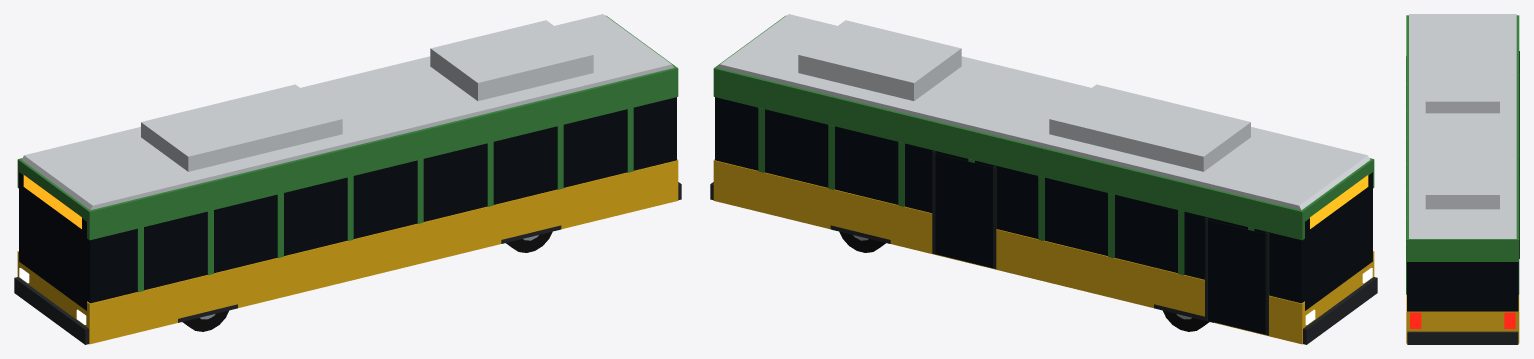
File: bus40-green.glb
3 views of the same model, side by side, from view 1: azimuth 30°, elevation 25°; view 2: azimuth 150°, elevation 25°; view 3: azimuth 270°, elevation 25° (orthographic). The views are drawn at different scales.
Visible parts, largest first — view 1: bus40; view 2: bus40; view 3: bus40.
Part boxes in pixels (x1=…): bus40: x1=14, y1=14, x2=681, y2=344; bus40: x1=710, y1=14, x2=1377, y2=344; bus40: x1=1406, y1=14, x2=1519, y2=344.
Bounding box in the file's own units: 12.36 × 3.37 × 2.61.
